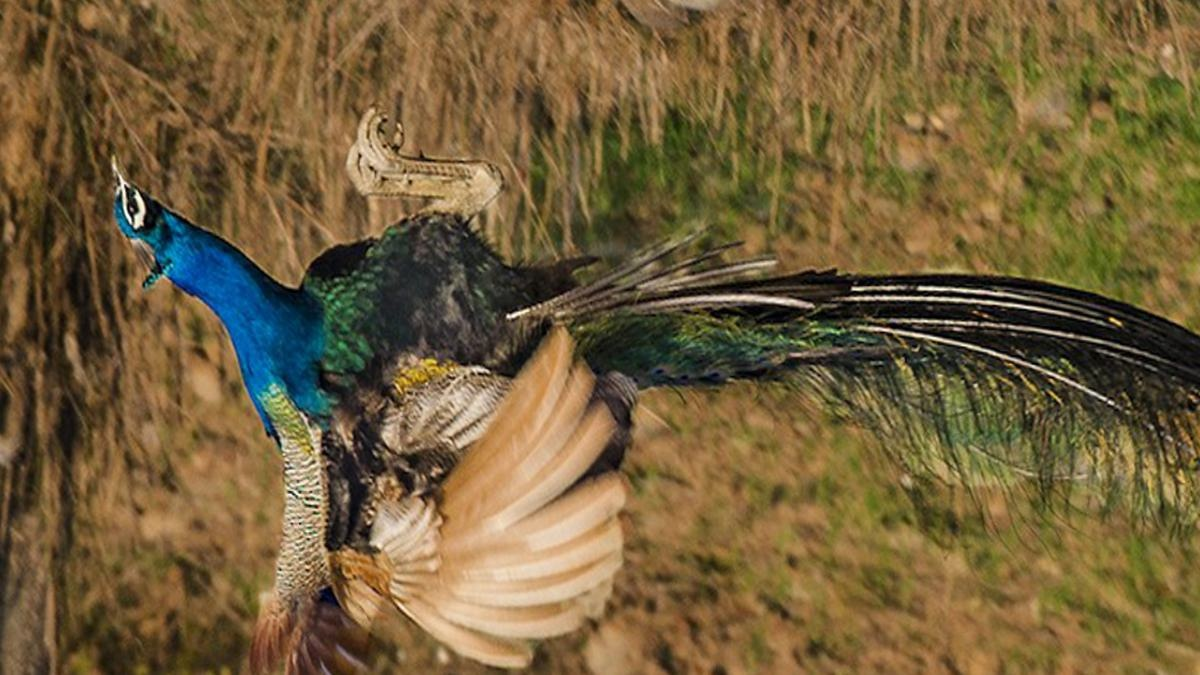peacock: (85, 147, 1200, 675)
